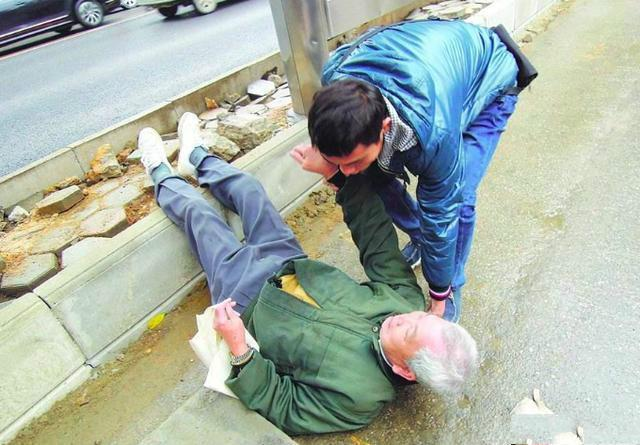falling: (147, 132, 481, 439)
sitting: (329, 14, 509, 300)
